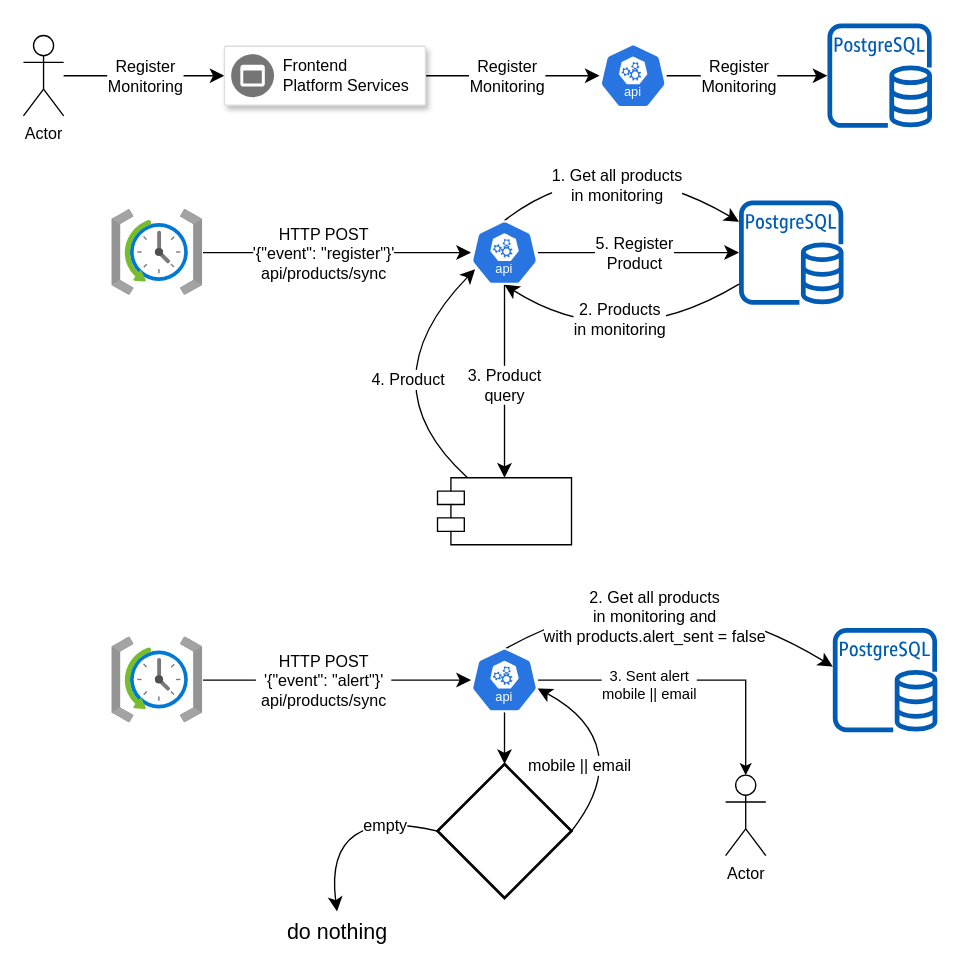
The diagram is 961 pixels wide and 974 high, and some of its shapes have lost their labels. The shapes that lost their labels are listed below. From the top down, each one's centre as x and y in pixels, then its label:
At point (504, 510): "Module 1 Module 2 ...".
At point (504, 830): "1. monitoring alert_target".
